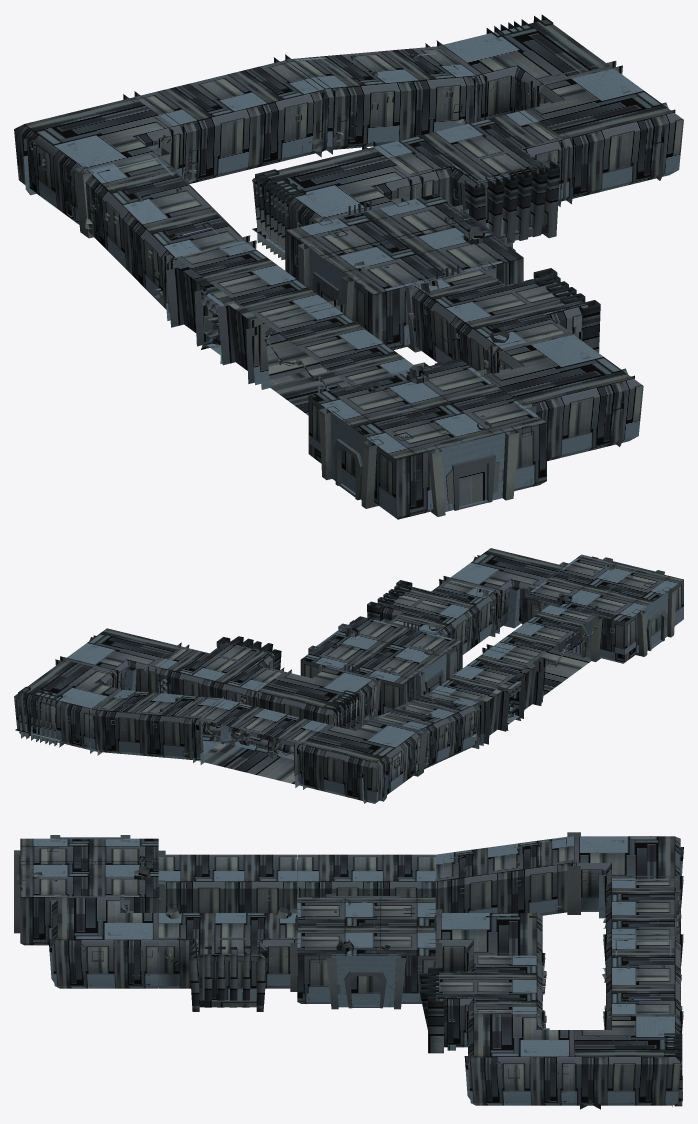
Rendered from Combined_Mesh_root_scene_b20ae4d5__zombies2_diffuse_03_64bb9bc2_c1f257.obj.
3 views of the same model, one above another, from view 1: azimuth 30°, elevation 25°; view 2: azimuth 150°, elevation 25°; view 3: azimuth 270°, elevation 25° (orthographic). The views are drawn at different scales.
Bounding box in the file's own units: 77.06 × 11.5 × 96.9.
Materials: 233 (233 with a texture image).
